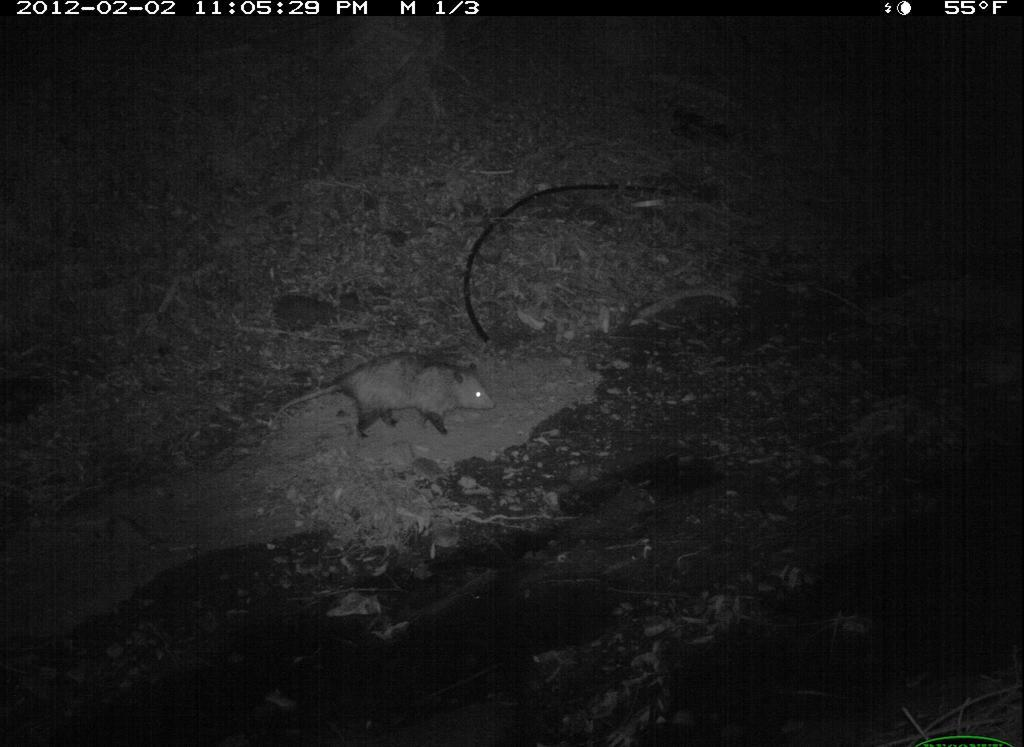opossum: (267, 349, 505, 451)
